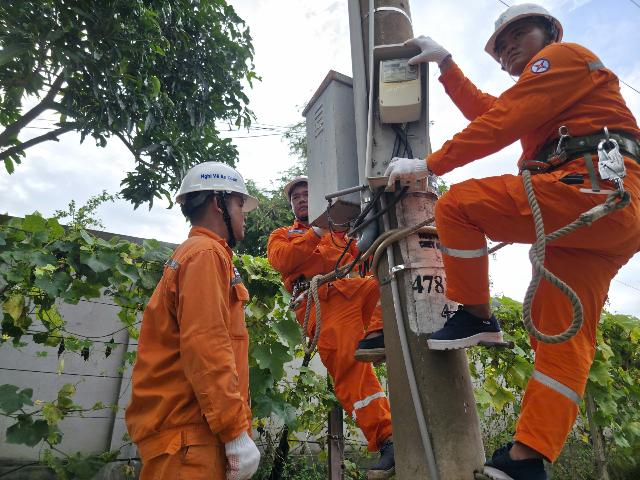gloves: (219, 422, 276, 480), (398, 28, 461, 73), (375, 151, 439, 186)
harness: (519, 120, 640, 174), (279, 271, 386, 307)
helmet: (165, 140, 268, 215), (478, 0, 578, 58), (266, 168, 317, 206)
shoes: (428, 302, 511, 354), (481, 438, 561, 480), (350, 326, 419, 367), (359, 431, 416, 480)
